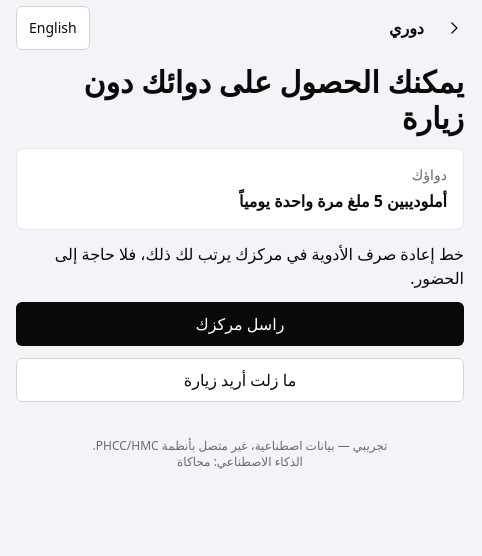
Test: S07 refill › says the refill line is a demo and invents no number
Click the button with test id "refill-message": [240, 324] box [16,302,464,346]
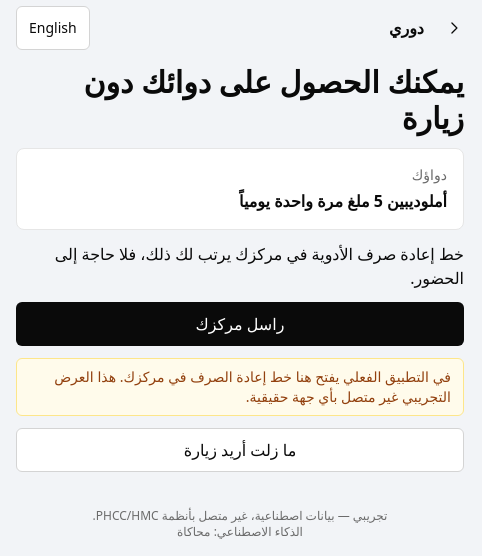
Now the message shows "غير متصل بأي جهة حقيقية", box [54,367,451,406]
